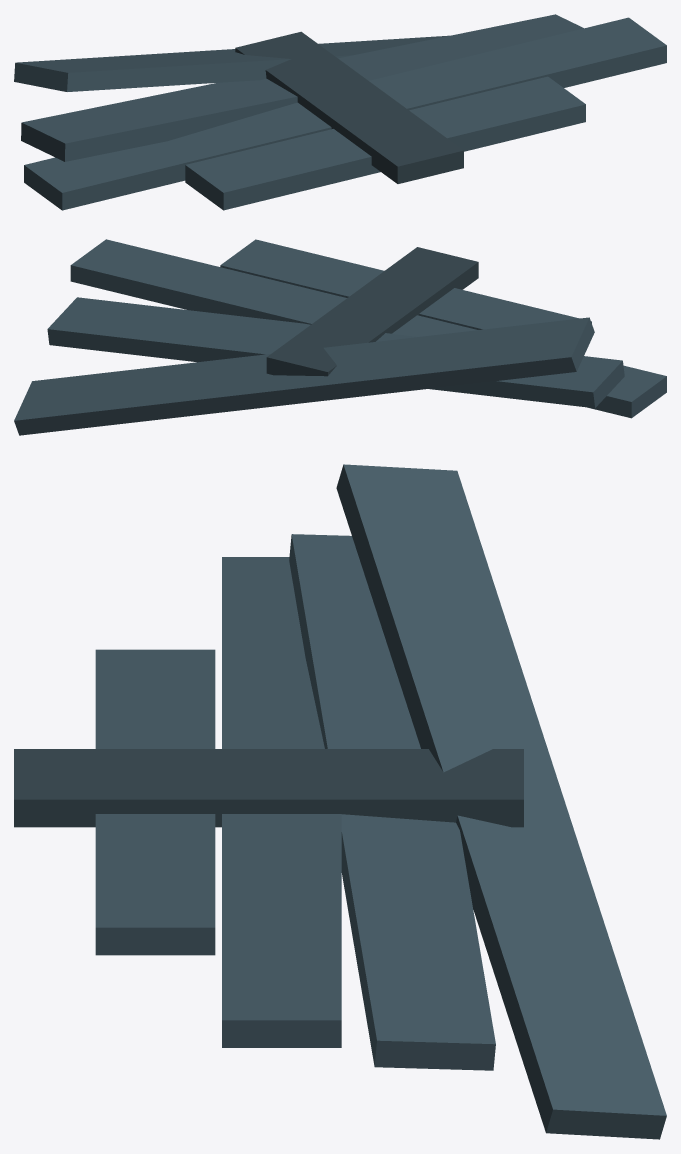
Rendered from Ship_049.glb.
3 renders of one model, top to bottom at view 1: azimuth 30°, elevation 25°; view 2: azimuth 150°, elevation 25°; view 3: azimuth 270°, elevation 25°, orthographic. The views are drawn at different scales.
Visible parts, largest first — view 1: Ship_049; view 2: Ship_049; view 3: Ship_049.
Boxes of the visible parts, left/top/right/bottom form: Ship_049: left=14, top=14, right=666, bottom=210; Ship_049: left=14, top=239, right=666, bottom=435; Ship_049: left=14, top=464, right=666, bottom=1139.
Size of the model in its own units: 3.07 by 0.8696 by 1.83.
Materials: 1 (1 with a texture image).
